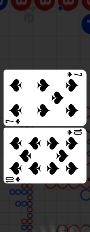10C: (67, 128, 84, 136)
7C: (66, 71, 84, 78)
